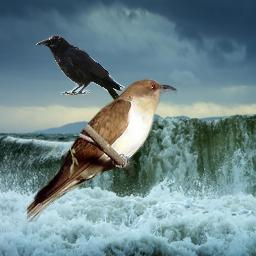Crow: (36, 35, 125, 104)
Cuckoo: (27, 77, 178, 222)
